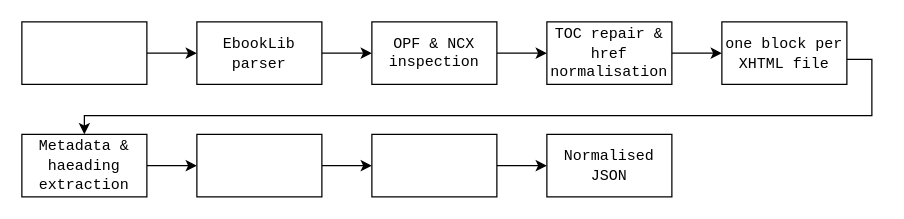
Some shapes in this 904 by 219 pixel diagram are drawn without their labels. Each missing label, with the centre of its shape:
"EBUB files" belongs at (84,52).
"Narrative Classification" belongs at (434,165).
"Type Inference" belongs at (259,165).
